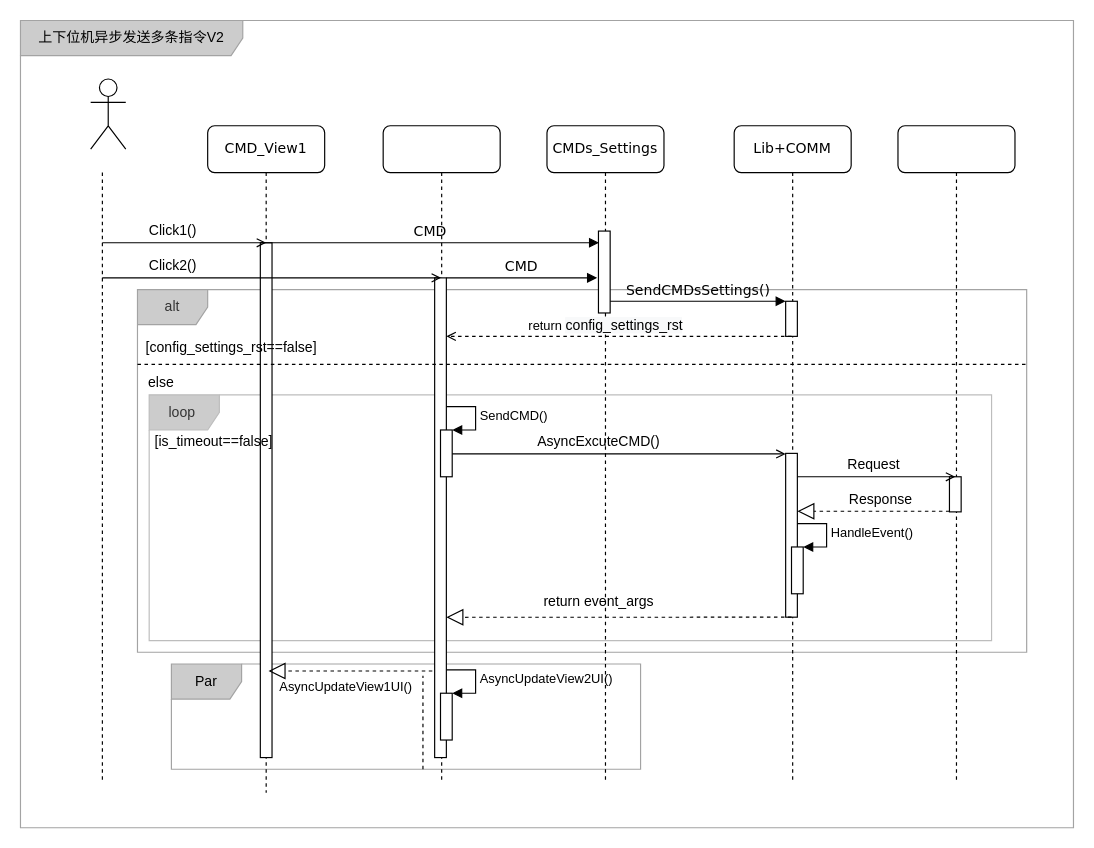
Some shapes in this 1094 by 848 pixel diagram are drawn without their labels. The shapes that lost their labels are listed below. From the top down, each one's centre as x and y in pixels, then its label:
At (x=108, y=113): "Actor".
At (x=441, y=453): "CMD_View2".
At (x=956, y=453): "DUT".
